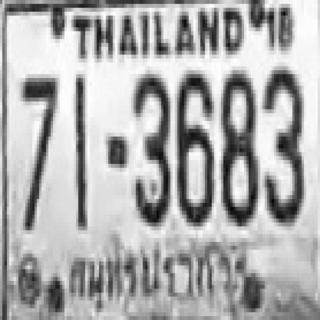N01: (73, 74, 86, 226)
N03: (262, 64, 302, 220), (131, 70, 168, 222)
N06: (175, 70, 212, 222)
N07: (20, 74, 56, 226)
N08: (219, 66, 255, 222)
P57: (67, 242, 249, 298)
